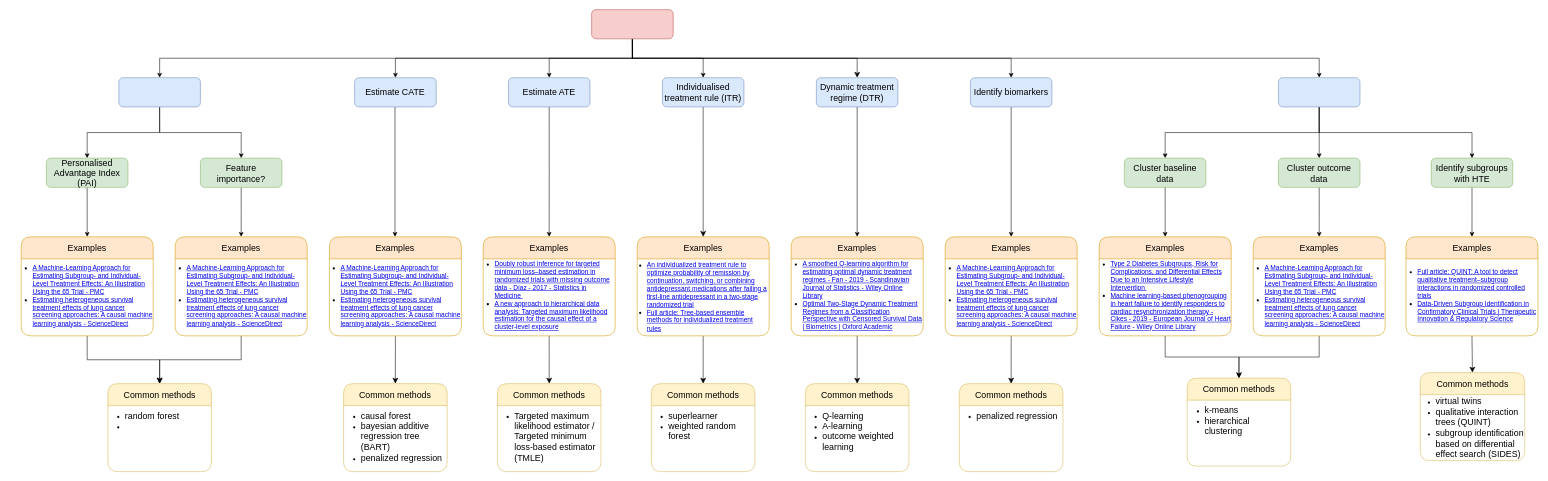
Some shapes in this 1548 by 481 pixel diagram are drawn without their labels. The centre of each missing label's shape, as x and y in pixels:
"Applications" belongs at (x=632, y=24).
"Identify subgroups" belongs at (x=1319, y=92).
"Predict treatment outcomes" belongs at (x=159, y=92).
